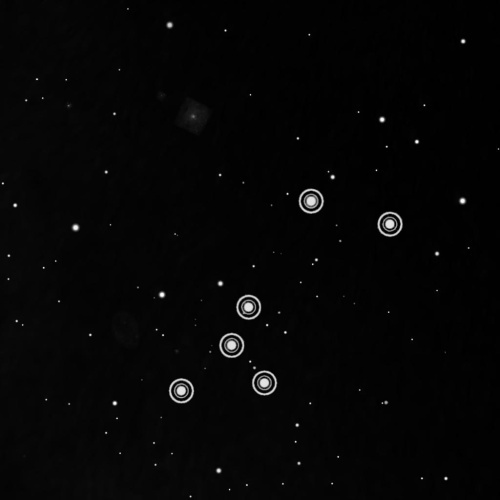canis_major: (161, 185, 407, 411)
